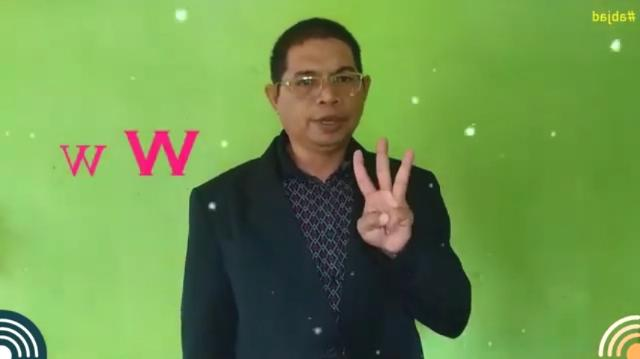W: (349, 137, 415, 257)
